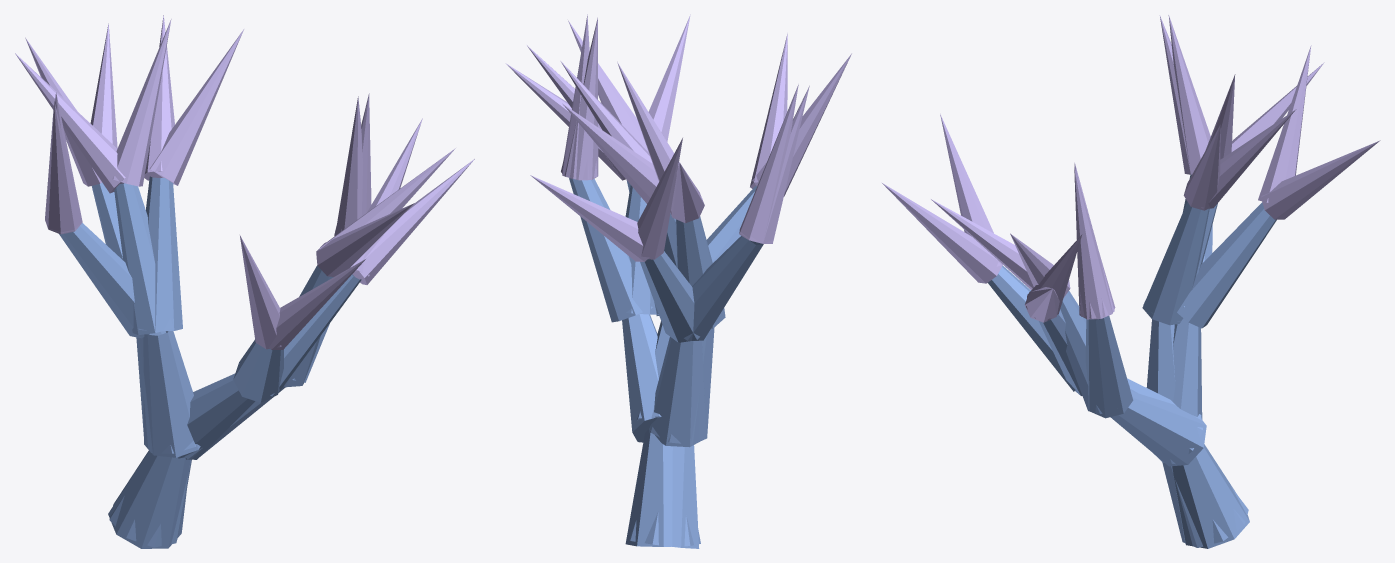
Rendered from procedural-crystal-raw.glb.
3 views of the same model, side by side, from view 1: azimuth 30°, elevation 25°; view 2: azimuth 150°, elevation 25°; view 3: azimuth 270°, elevation 25° (orthographic). The views are drawn at different scales.
Parts seen in each view (by area): view 1: Procedural__Crystal_Segment_002, Procedural__Crystal_Segment_000, Procedural__Crystal_Segment_006, Procedural__Crystal_Segment_007, Procedural__Crystal_Segment_009, Procedural__Crystal_Segment_017, Procedural__Crystal_Segment_015, Procedural__Crystal_Segment_005, Procedural__Crystal_Segment_014, Procedural__Crystal_Segment_020, Procedural__Crystal_Segment_026, Procedural__Crystal_Segment_022 (+15 smaller); view 2: Procedural__Crystal_Segment_003, Procedural__Crystal_Segment_001, Procedural__Crystal_Segment_011, Procedural__Crystal_Segment_004, Procedural__Crystal_Segment_009, Procedural__Crystal_Segment_008, Procedural__Crystal_Segment_000, Procedural__Crystal_Segment_021, Procedural__Crystal_Segment_019, Procedural__Crystal_Segment_018, Procedural__Crystal_Segment_016, Procedural__Crystal_Segment_025 (+17 smaller); view 3: Procedural__Crystal_Segment_001, Procedural__Crystal_Segment_008, Procedural__Crystal_Segment_007, Procedural__Crystal_Segment_004, Procedural__Crystal_Segment_011, Procedural__Crystal_Segment_024, Procedural__Crystal_Segment_028, Procedural__Crystal_Segment_019, Procedural__Crystal_Segment_003, Procedural__Crystal_Segment_018, Procedural__Crystal_Segment_021, Procedural__Crystal_Segment_013 (+14 smaller).
Part boxes in pixels (left/top/right/bottom): Procedural__Crystal_Segment_002: left=143, top=331, right=200, bottom=457; Procedural__Crystal_Segment_000: left=108, top=451, right=190, bottom=548; Procedural__Crystal_Segment_006: left=114, top=183, right=181, bottom=334; Procedural__Crystal_Segment_007: left=138, top=176, right=182, bottom=331; Procedural__Crystal_Segment_009: left=59, top=223, right=148, bottom=338; Procedural__Crystal_Segment_017: left=149, top=29, right=243, bottom=185; Procedural__Crystal_Segment_015: left=113, top=19, right=171, bottom=186; Procedural__Crystal_Segment_005: left=178, top=373, right=255, bottom=459; Procedural__Crystal_Segment_014: left=15, top=53, right=125, bottom=193; Procedural__Crystal_Segment_020: left=45, top=101, right=82, bottom=234; Procedural__Crystal_Segment_026: left=352, top=159, right=474, bottom=284; Procedural__Crystal_Segment_022: left=316, top=203, right=414, bottom=276; Procedural__Crystal_Segment_003: left=649, top=337, right=706, bottom=447; Procedural__Crystal_Segment_001: left=625, top=429, right=700, bottom=546; Procedural__Crystal_Segment_011: left=569, top=178, right=652, bottom=322; Procedural__Crystal_Segment_004: left=622, top=314, right=658, bottom=442; Procedural__Crystal_Segment_009: left=684, top=236, right=763, bottom=340; Procedural__Crystal_Segment_008: left=640, top=251, right=699, bottom=342; Procedural__Crystal_Segment_000: left=629, top=445, right=699, bottom=548; Procedural__Crystal_Segment_021: left=739, top=84, right=798, bottom=243; Procedural__Crystal_Segment_019: left=530, top=175, right=649, bottom=261; Procedural__Crystal_Segment_018: left=637, top=138, right=682, bottom=259; Procedural__Crystal_Segment_016: left=562, top=103, right=658, bottom=203; Procedural__Crystal_Segment_025: left=561, top=17, right=598, bottom=180; Procedural__Crystal_Segment_001: left=1172, top=444, right=1249, bottom=548; Procedural__Crystal_Segment_008: left=1177, top=202, right=1276, bottom=328; Procedural__Crystal_Segment_007: left=1142, top=202, right=1209, bottom=325; Procedural__Crystal_Segment_004: left=1110, top=391, right=1206, bottom=466; Procedural__Crystal_Segment_011: left=1085, top=316, right=1133, bottom=418; Procedural__Crystal_Segment_024: left=1074, top=167, right=1115, bottom=319; Procedural__Crystal_Segment_028: left=881, top=182, right=1002, bottom=283; Procedural__Crystal_Segment_019: left=1261, top=140, right=1380, bottom=219; Procedural__Crystal_Segment_003: left=1173, top=318, right=1202, bottom=419; Procedural__Crystal_Segment_018: left=1258, top=45, right=1311, bottom=202; Procedural__Crystal_Segment_021: left=1168, top=15, right=1210, bottom=174; Procedural__Crystal_Segment_013: left=988, top=265, right=1075, bottom=391.
Size of the model in its own units: 1.98 by 2.6 by 2.44.
